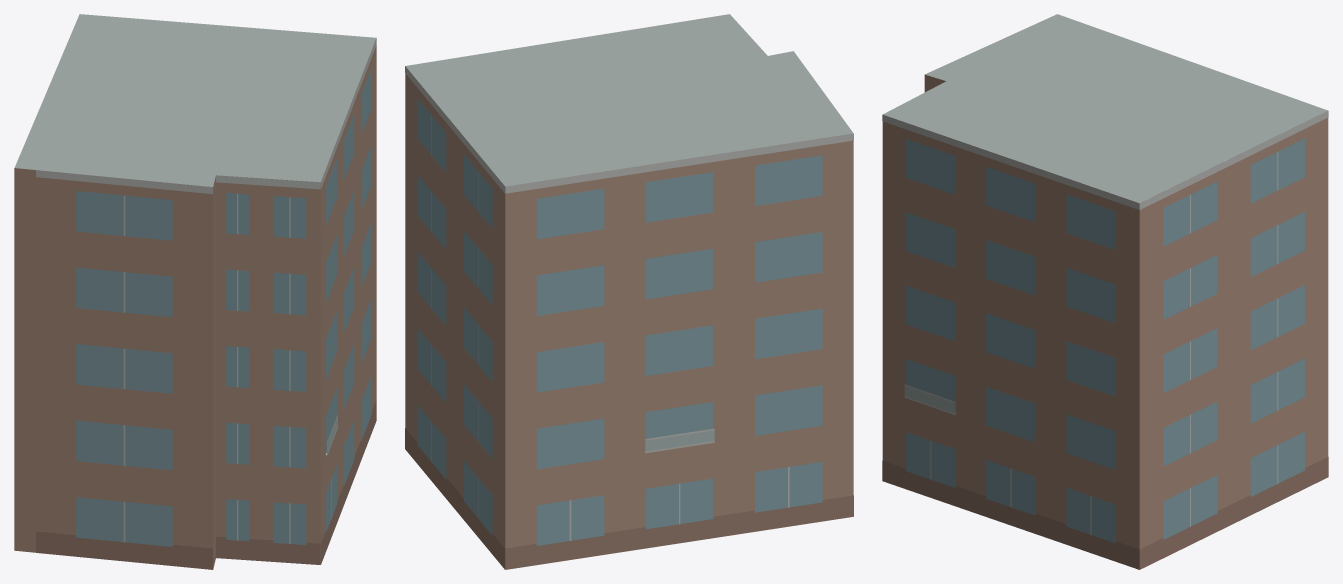
Rendered from survey-upis-32778306.glb.
3 views of the same model, side by side, from view 1: azimuth 30°, elevation 25°; view 2: azimuth 150°, elevation 25°; view 3: azimuth 270°, elevation 25° (orthographic). The views are drawn at different scales.
Parts seen in each view (by area): view 1: survey-upis-32778306.tmp; view 2: survey-upis-32778306.tmp; view 3: survey-upis-32778306.tmp.
Boxes of the visible parts, <box> form: survey-upis-32778306.tmp: <box>14,14,376,569</box>; survey-upis-32778306.tmp: <box>405,14,853,569</box>; survey-upis-32778306.tmp: <box>882,14,1328,569</box>.
Bounding box in the file's own units: 14.63 × 13.2 × 14.56.
